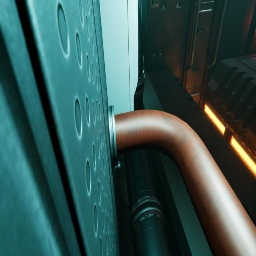EmergencyPhone ,: (150, 0, 160, 8)
SafetySwitchPanel ,: (99, 0, 138, 115)
